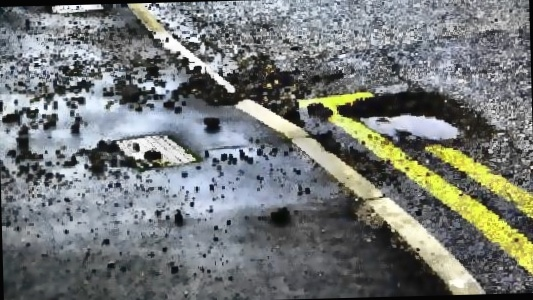pothole: (335, 87, 495, 151)
